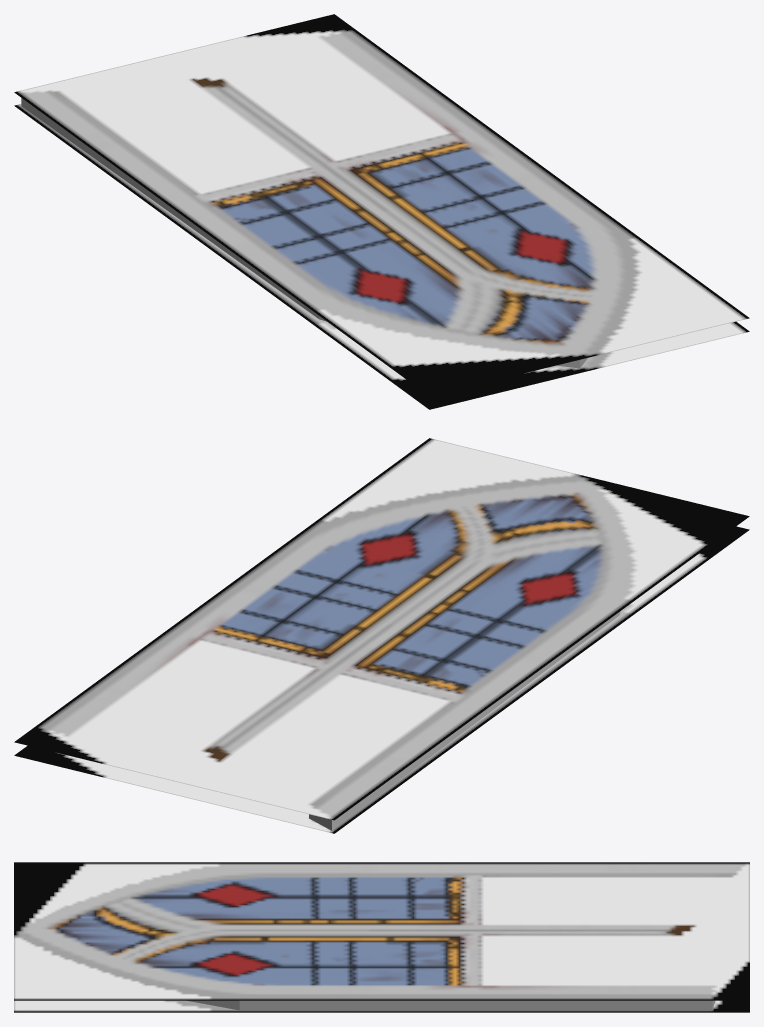
The model's file is pz_native_location_community_church_small_01_263_frame.obj.
The picture shows the model from 3 angles, top to bottom: view 1: azimuth 30°, elevation 25°; view 2: azimuth 150°, elevation 25°; view 3: azimuth 270°, elevation 25°; orthographic projection. The views are drawn at different scales.
Parts seen in each view (by area): view 1: pz_native_location_community_church_small_01_263_frame; view 2: pz_native_location_community_church_small_01_263_frame; view 3: pz_native_location_community_church_small_01_263_frame.
Boxes of the visible parts, x1=… form: pz_native_location_community_church_small_01_263_frame: x1=14, y1=14, x2=749, y2=409; pz_native_location_community_church_small_01_263_frame: x1=14, y1=438, x2=749, y2=833; pz_native_location_community_church_small_01_263_frame: x1=14, y1=862, x2=749, y2=1012.
Size of the model in its own units: 1 by 0.04 by 2.25.
1 material, 1 textured.
